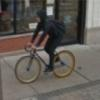bicycles: (13, 40, 76, 84)
